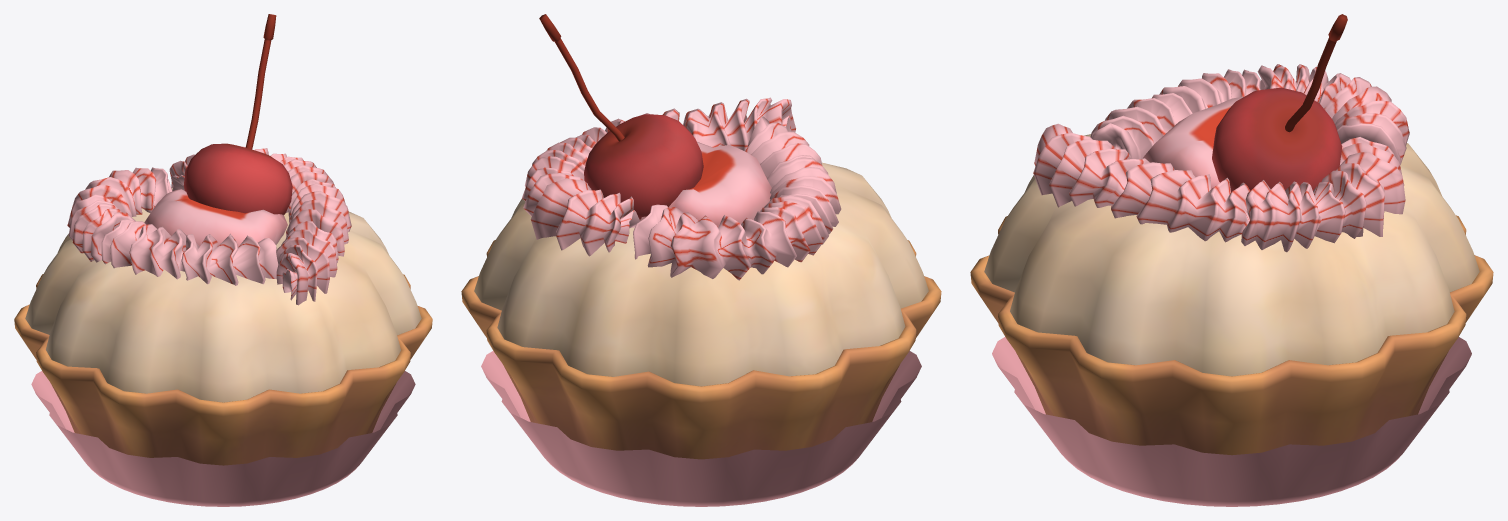
File: cupcake_cherry_1.fbx
The picture shows the model from 3 angles, left to right: view 1: azimuth 30°, elevation 25°; view 2: azimuth 150°, elevation 25°; view 3: azimuth 270°, elevation 25°; orthographic projection. The views are drawn at different scales.
Parts seen in each view (by area): view 1: cake_basket_cherry_heart; view 2: cake_basket_cherry_heart; view 3: cake_basket_cherry_heart.
Part boxes in pixels (x1,y1,x2,y2): cake_basket_cherry_heart: (14, 14, 432, 506); cake_basket_cherry_heart: (461, 14, 941, 506); cake_basket_cherry_heart: (970, 14, 1493, 506).
Size of the model in its own units: 11.97 by 11.93 by 11.96.
